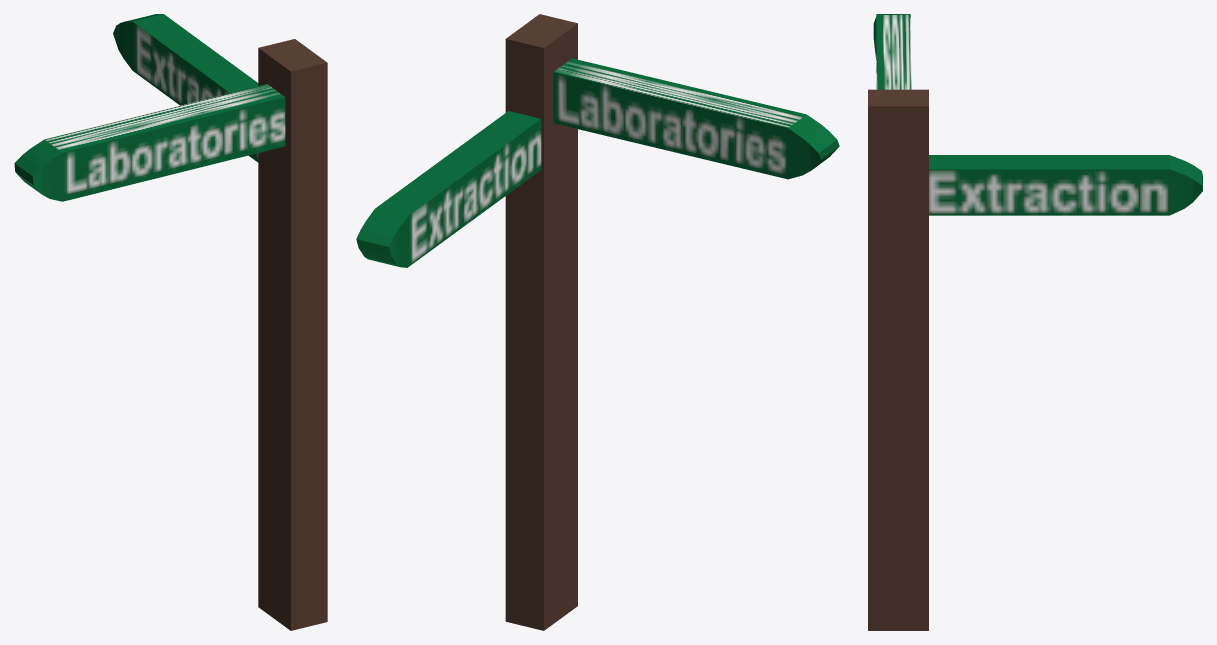
The model's file is SignPost.fbx.
3 renders of one model, left to right at view 1: azimuth 30°, elevation 25°; view 2: azimuth 150°, elevation 25°; view 3: azimuth 270°, elevation 25°, orthographic. The views are drawn at different scales.
Parts seen in each view (by area): view 1: Cube, Cube.003, Cube.001, Cube.004, Cube.002; view 2: Cube, Cube.003, Cube.001, Cube.002, Cube.004; view 3: Cube, Cube.001, Cube.003, Cube.002.
Boxes of the visible parts, bbox=[...] form: Cube: bbox=[258, 39, 327, 630]; Cube.003: bbox=[44, 84, 285, 201]; Cube.001: bbox=[132, 14, 258, 162]; Cube.004: bbox=[14, 139, 62, 201]; Cube.002: bbox=[113, 14, 162, 70]; Cube: bbox=[505, 14, 577, 630]; Cube.003: bbox=[553, 58, 806, 179]; Cube.001: bbox=[375, 111, 541, 267]; Cube.002: bbox=[356, 209, 407, 267]; Cube.004: bbox=[788, 114, 839, 179]; Cube: bbox=[868, 89, 928, 630]; Cube.001: bbox=[929, 155, 1169, 215]; Cube.003: bbox=[876, 14, 911, 89]; Cube.002: bbox=[1170, 155, 1202, 215].
Size of the model in its own units: 256 by 470 by 272.
